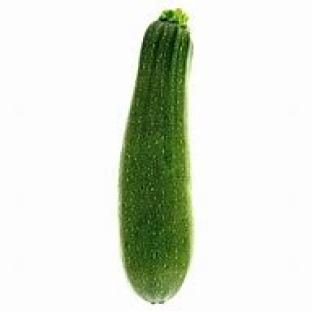Zucchini: (119, 10, 191, 302)
